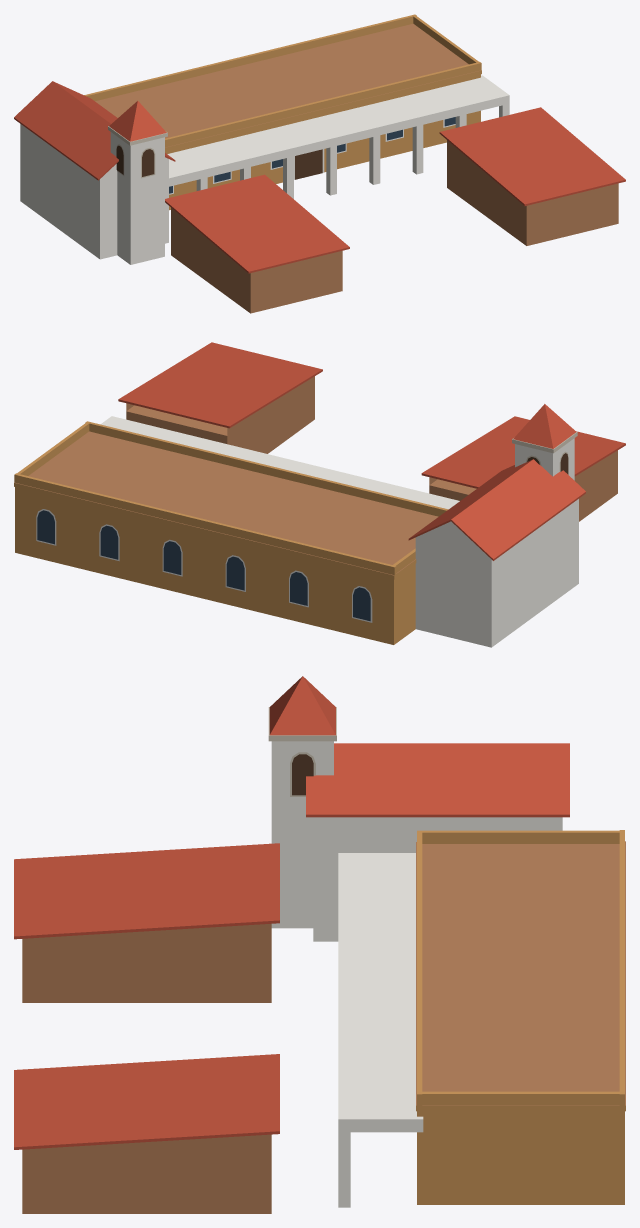
The model's file is hacienda.glb.
3 views of the same model, one above another, from view 1: azimuth 30°, elevation 25°; view 2: azimuth 150°, elevation 25°; view 3: azimuth 270°, elevation 25° (orthographic). The views are drawn at different scales.
Visible parts, largest first — view 1: hacienda; view 2: hacienda; view 3: hacienda.
Boxes of the visible parts, <box> form: hacienda: <box>14,14,625,313</box>; hacienda: <box>14,342,625,647</box>; hacienda: <box>14,676,625,1213</box>.
Size of the model in its own units: 37.75 by 12.7 by 29.45.
1 material, 1 textured.
